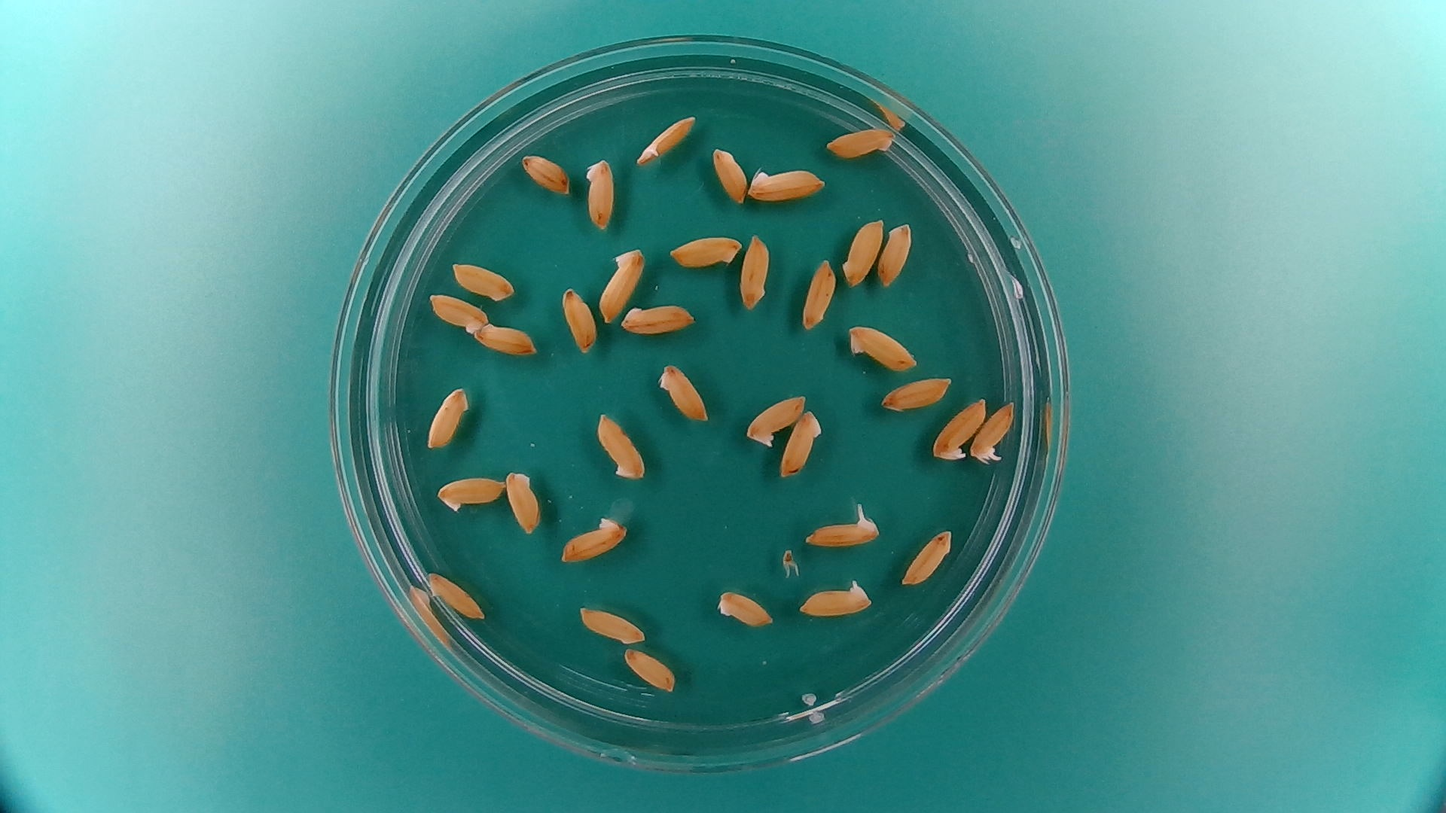no: (929, 392, 990, 465), (593, 407, 650, 484), (596, 244, 648, 325), (556, 510, 631, 566), (843, 321, 920, 373), (741, 390, 807, 450), (655, 358, 711, 425), (423, 567, 489, 623), (777, 406, 825, 483), (899, 525, 956, 588), (746, 163, 829, 206), (840, 213, 886, 288), (633, 111, 697, 164), (572, 603, 647, 647), (424, 385, 474, 450), (798, 254, 838, 333), (433, 471, 508, 513), (667, 230, 745, 270), (449, 258, 517, 303), (822, 120, 898, 160), (620, 300, 699, 338), (874, 217, 915, 289), (621, 644, 679, 694), (880, 374, 954, 413), (424, 292, 491, 335), (558, 284, 598, 356), (503, 466, 543, 537), (714, 586, 777, 630), (469, 320, 540, 359), (583, 152, 617, 233), (739, 230, 773, 311), (707, 142, 749, 204), (518, 151, 572, 198)
yes: (800, 503, 884, 550), (795, 576, 876, 619), (969, 397, 1018, 465)
